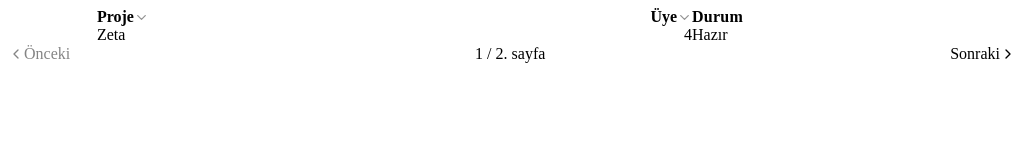
Test case: DataTable › paginates client rows and limits bulk selection to the visible page
Expected: the text "Zeta" is shown, [97,26,427,44]
Expected: the text "Alfa" is not shown
Step 1. Click the checkbox labelled "Görünür projeleri seç" → {"x": 52, "y": 17}, box [8,9,97,25]
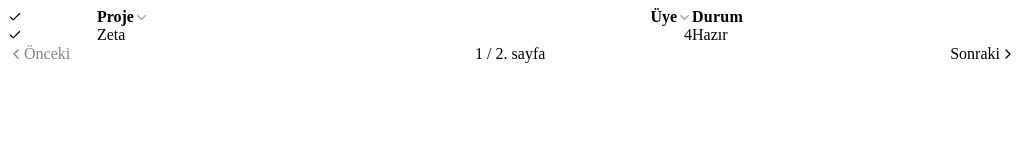
Step 2. Click the button "Sonraki" → {"x": 983, "y": 54}, box [950,44,1016,64]
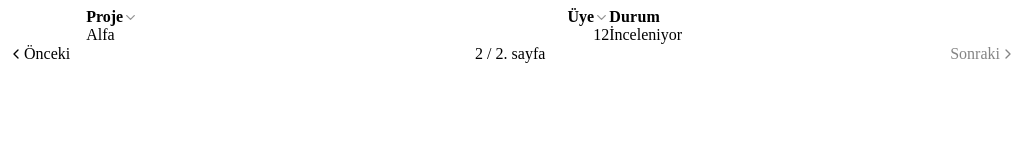
Expected: the text "Alfa" is shown, [86,26,377,44]
Expected: the text "2 / 2. sayfa" is shown, [475,45,545,63]
